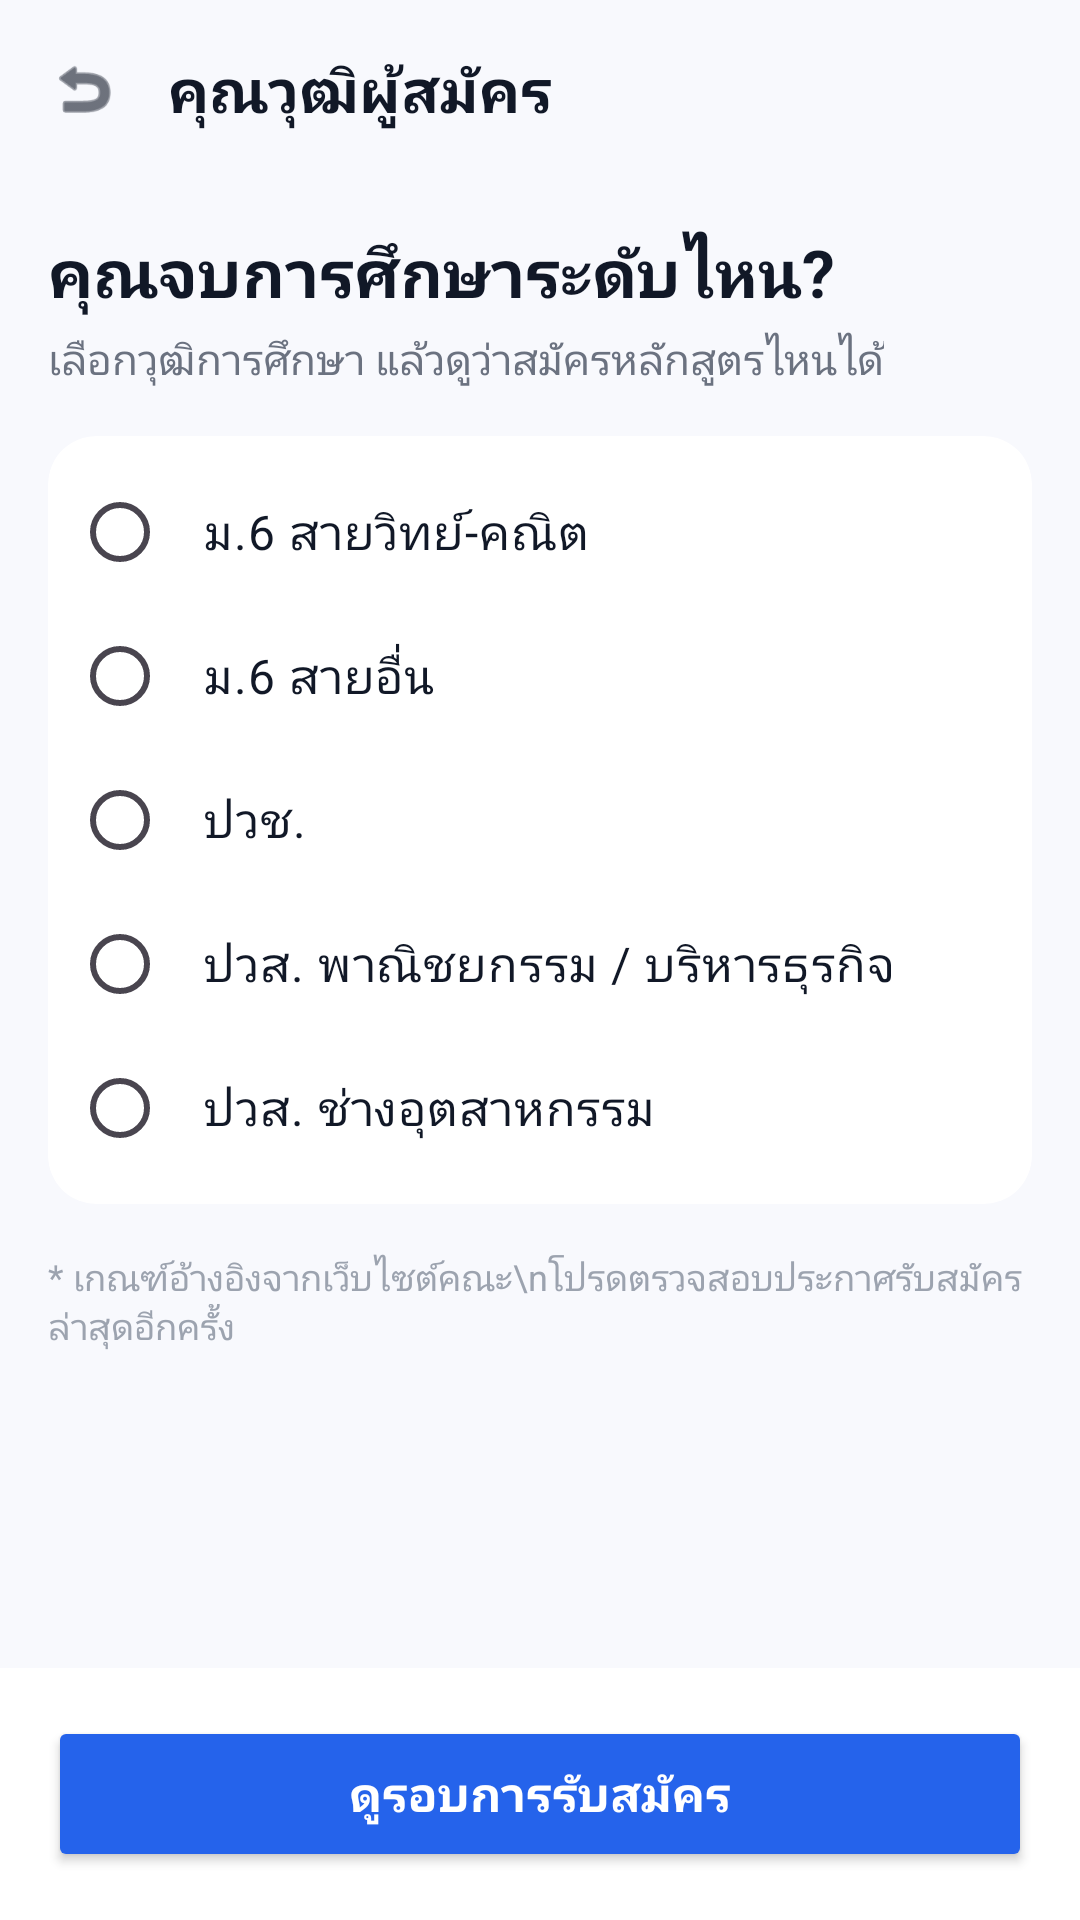

Locate icon controls on the screen. Image size 1080px x 1920px, boxes as (x1, y1, x2, y2).
Back: (59, 66, 111, 113)
